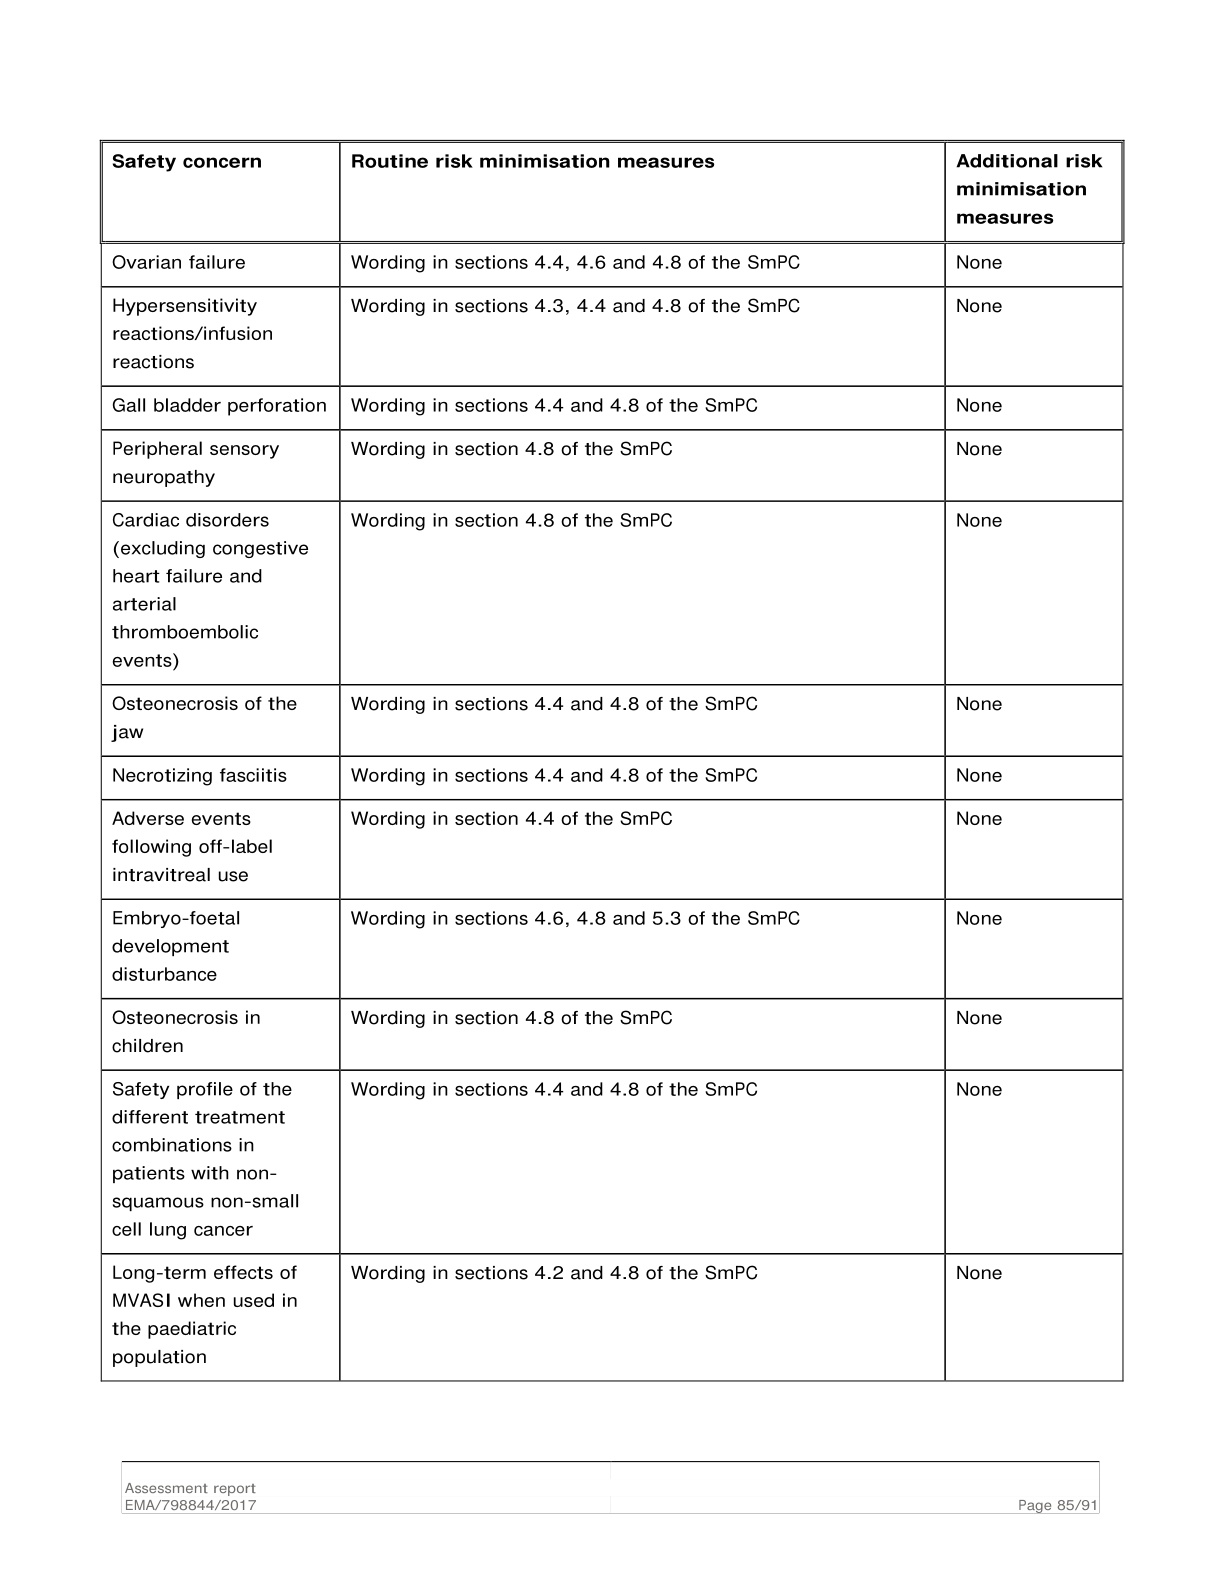full_lined: (98, 139, 1126, 1383)
